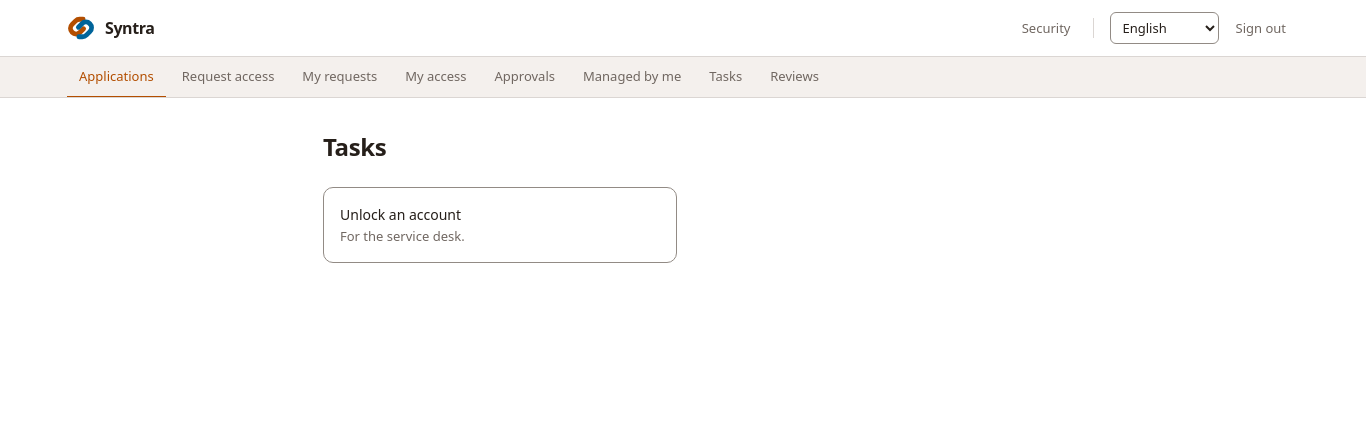
it: TasksPage › shows the refusal when the account is out of reach
Click the button "Unlock an account For the service desk." at point(401, 215), box [323,187,677,263]
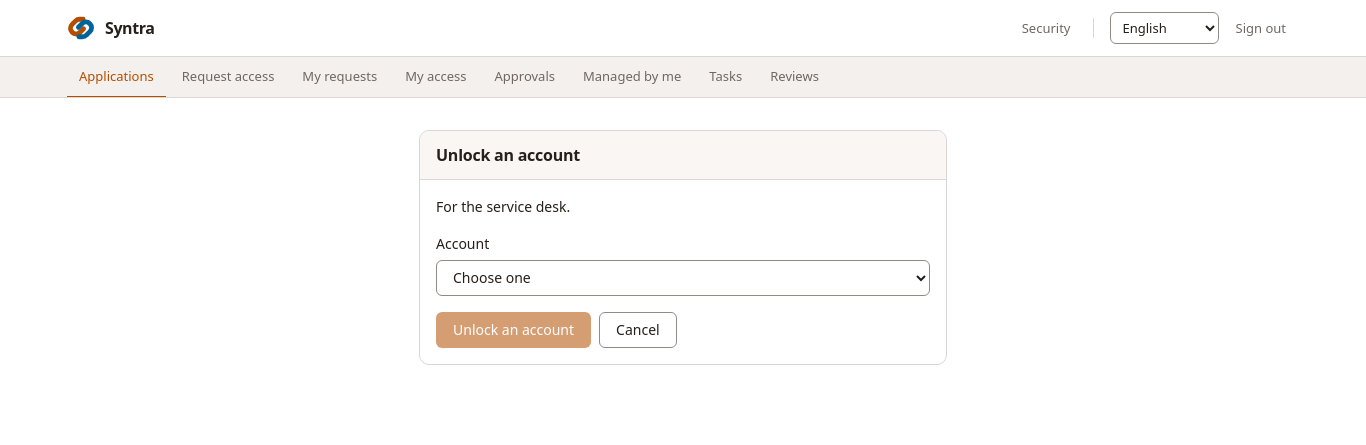
Select "Ada Lovelace (ada)" in the dropdown labelled "Account" at point(683, 278), box [436,260,930,296]
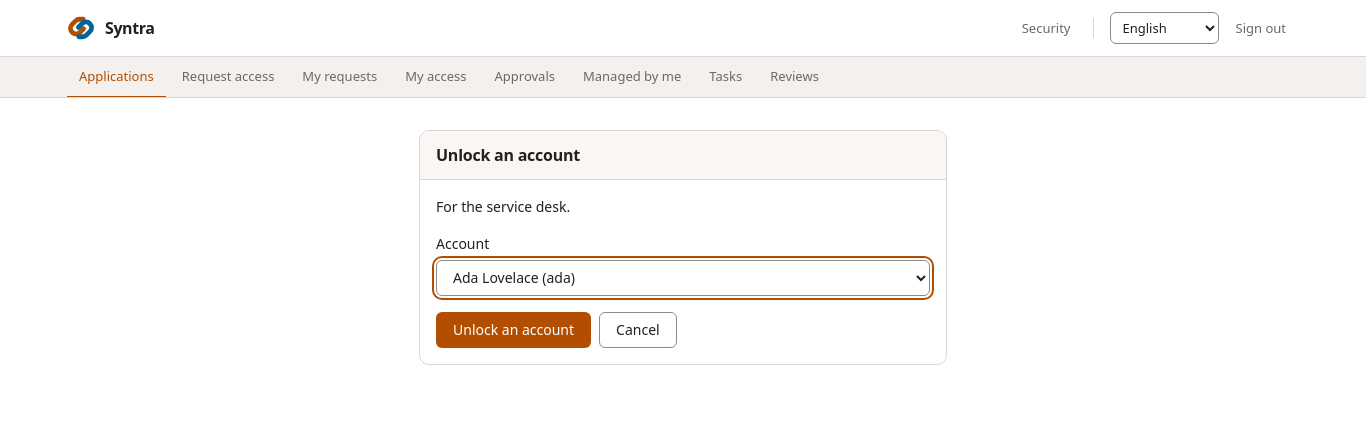
Click the button "Unlock an account" at point(514, 330), box [436,312,591,348]
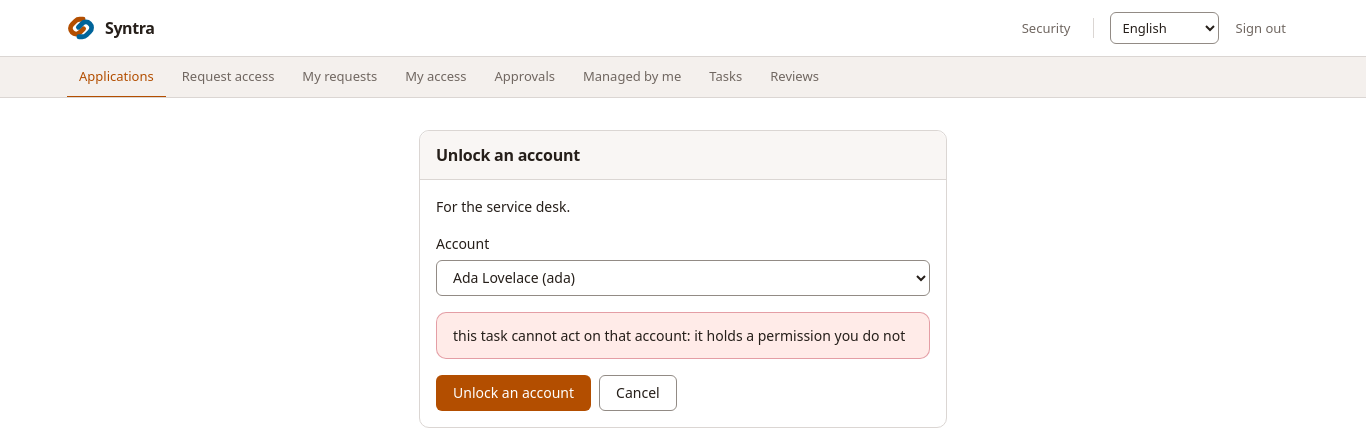
Now the text "holds a permission you do not" is shown, box [453,326,905,345]
